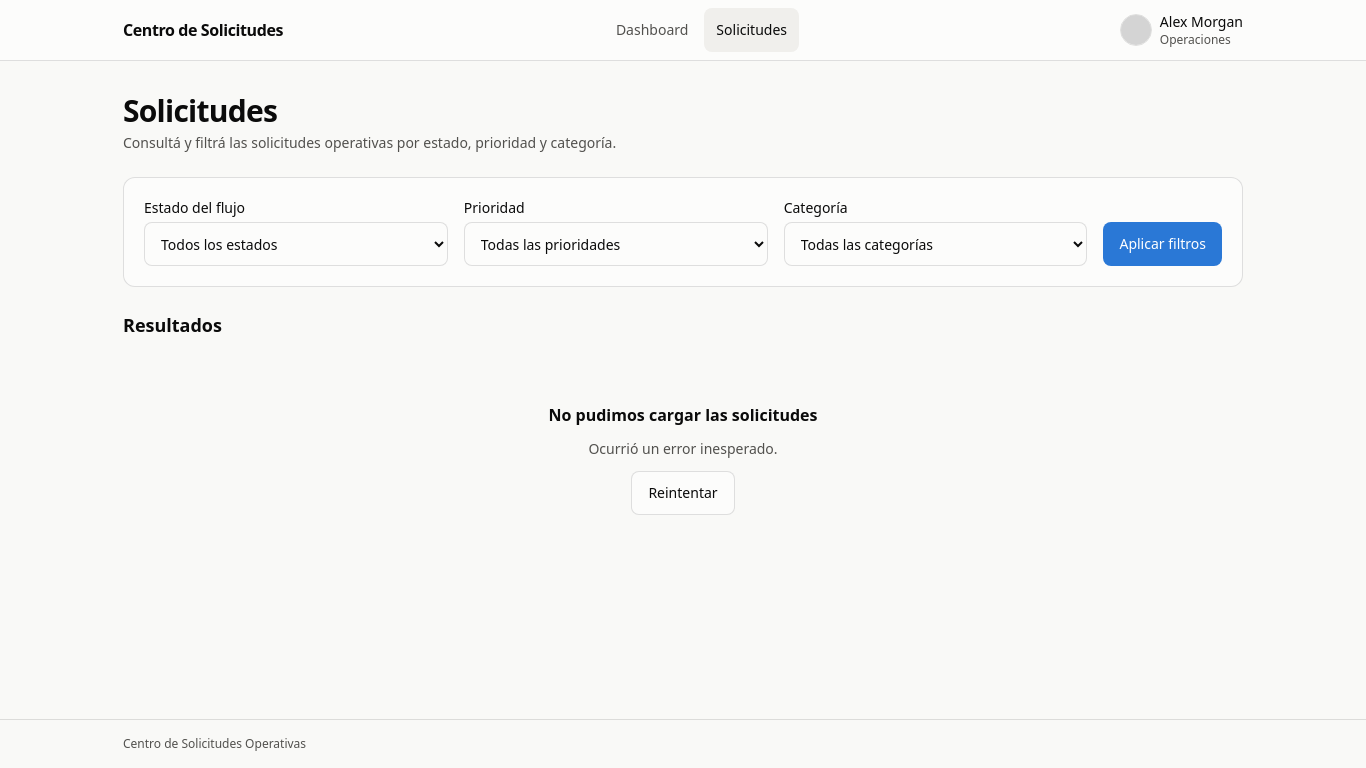
Test case: Requests list › shows an error state with retry
This screenshot has width=1366, height=768.
Expected: the message shows "No pudimos cargar las solicitudes", [548, 404, 818, 426]
Click the button "Reintentar": (683, 493) [631, 471, 735, 515]
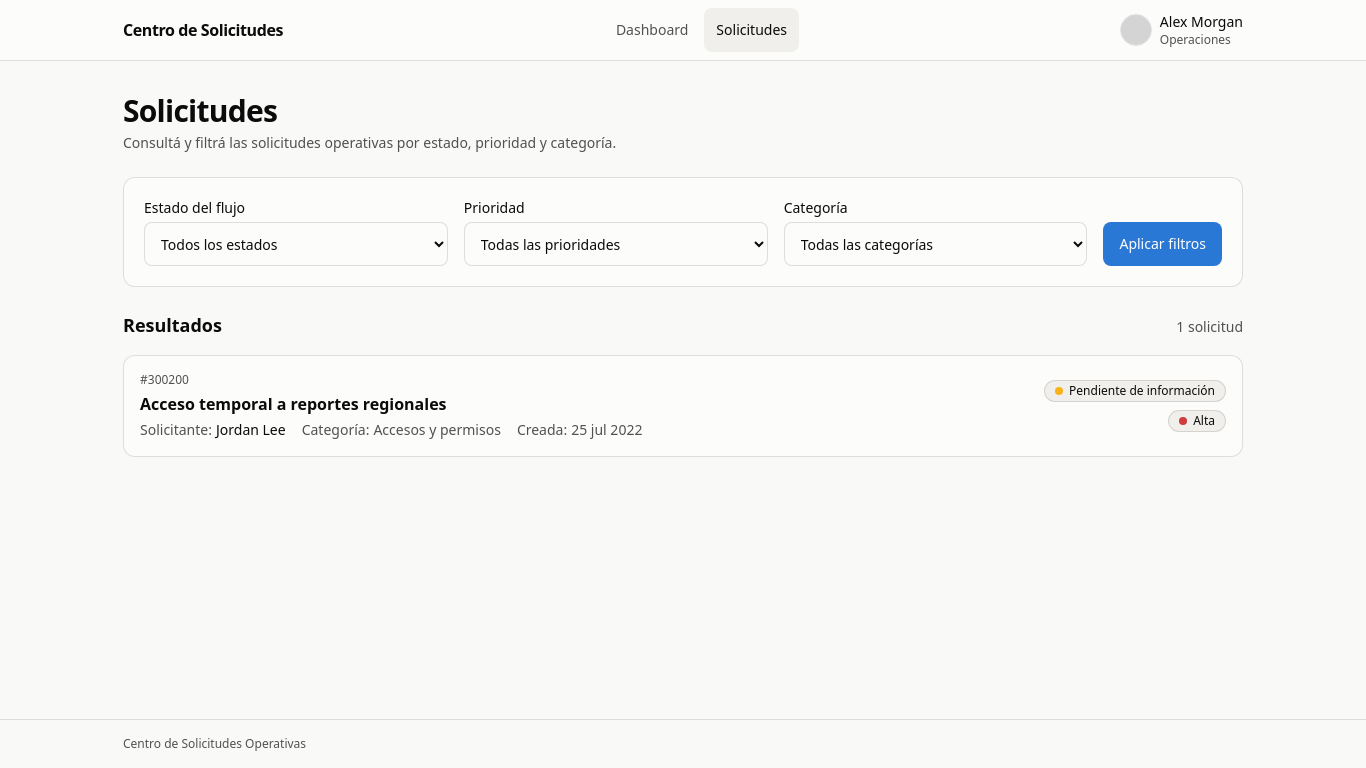
Result: the element that starts with "Acceso temporal a reportes regionales" is shown at [123, 355, 1243, 457]
